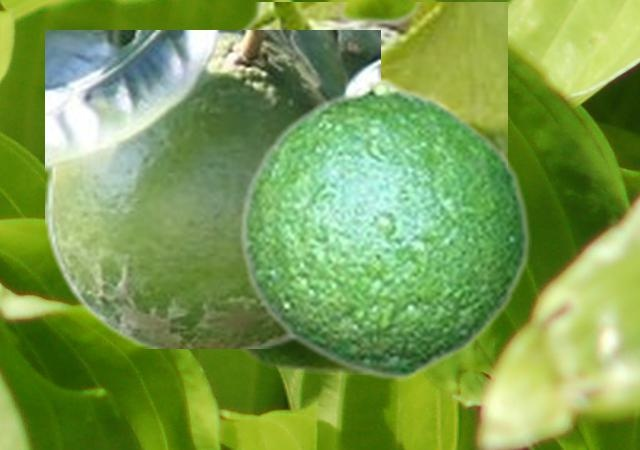dalandan: (45, 30, 379, 347), (227, 2, 506, 373), (237, 76, 530, 380)
